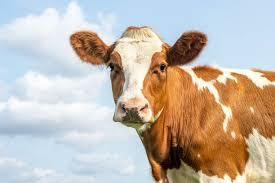cow: (69, 25, 275, 183)
